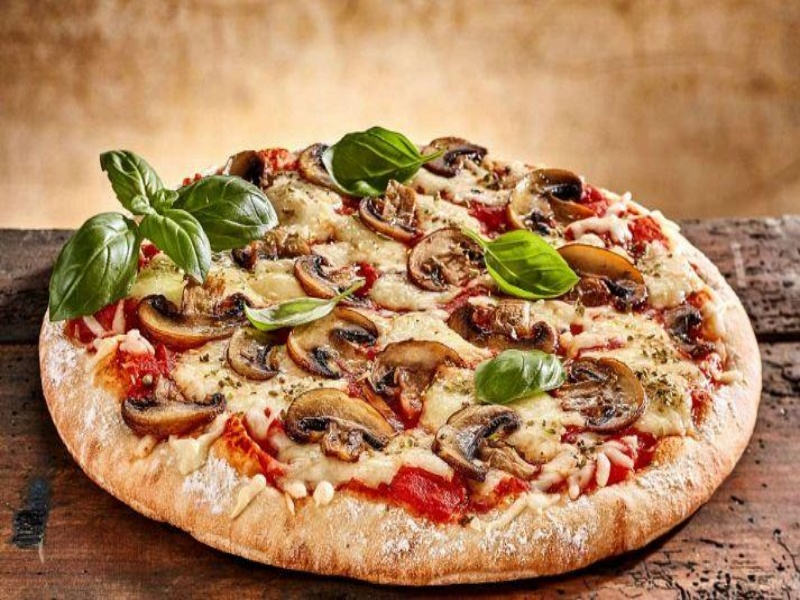champignon: (278, 383, 405, 470), (134, 270, 267, 350), (432, 402, 547, 485), (283, 302, 386, 387), (558, 358, 652, 441), (120, 374, 227, 439), (502, 161, 591, 235), (403, 222, 494, 293)
